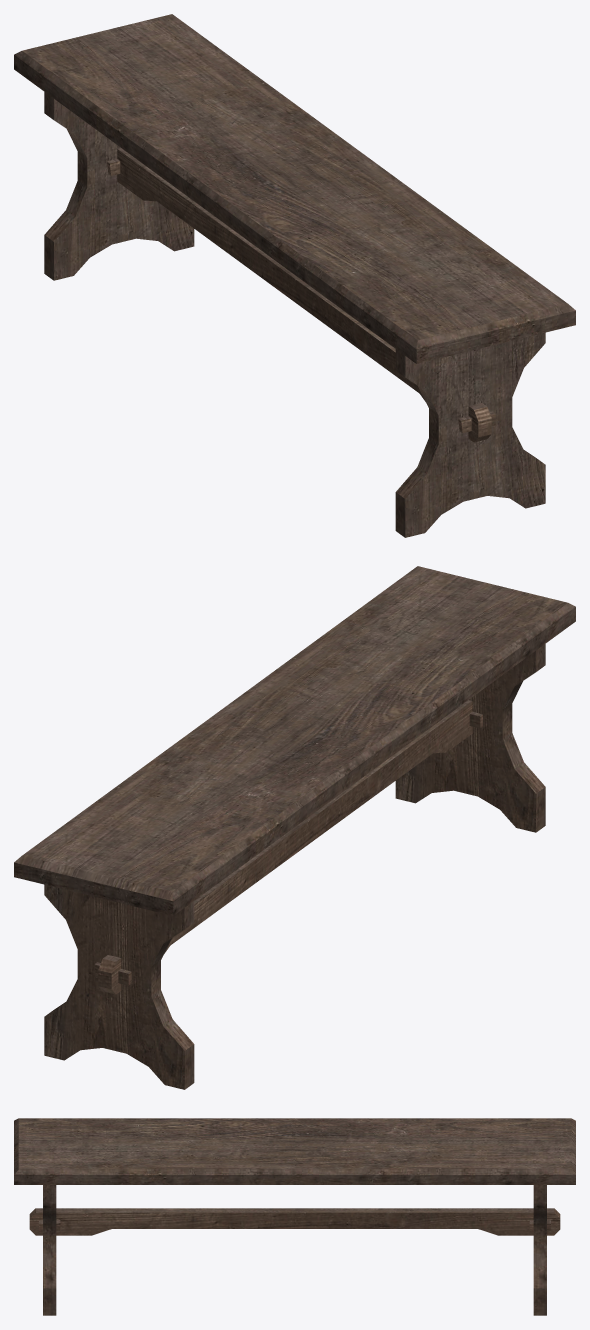
The model's file is mw_bench_01.FBX.
The picture shows the model from 3 angles, top to bottom: view 1: azimuth 30°, elevation 25°; view 2: azimuth 150°, elevation 25°; view 3: azimuth 270°, elevation 25°; orthographic projection. The views are drawn at different scales.
Visible parts, largest first — view 1: mw_bench_01; view 2: mw_bench_01; view 3: mw_bench_01.
Boxes of the visible parts, x1,y1,x2,y2 form: mw_bench_01: [14, 14, 575, 537]; mw_bench_01: [14, 566, 575, 1089]; mw_bench_01: [14, 1118, 575, 1315].
Size of the model in its own units: 53.39 by 67.67 by 233.
